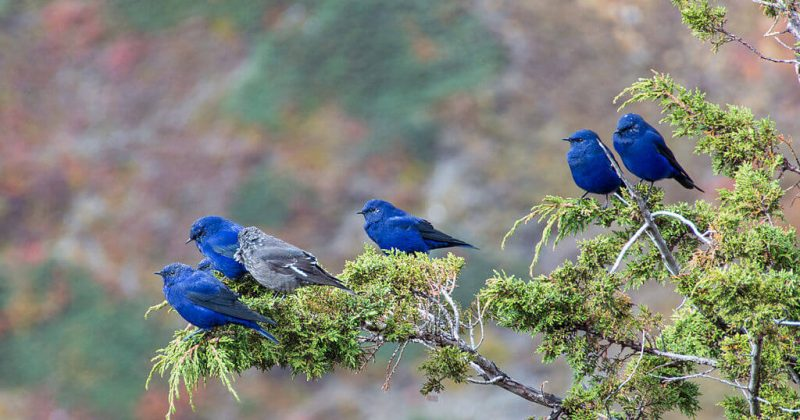bird: (238, 215, 345, 311), (614, 98, 704, 207), (357, 187, 483, 264), (157, 264, 256, 354), (183, 207, 264, 285), (559, 124, 622, 205)
